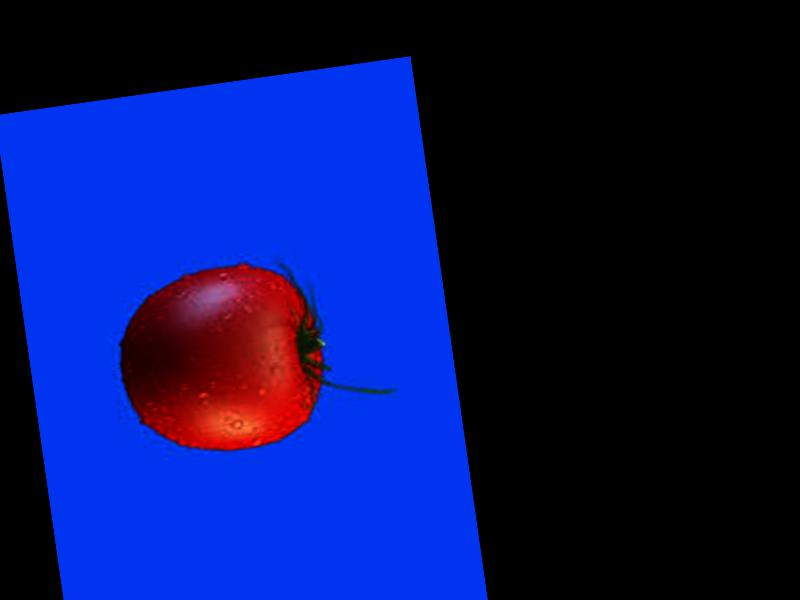Tomato: (108, 253, 335, 464)
